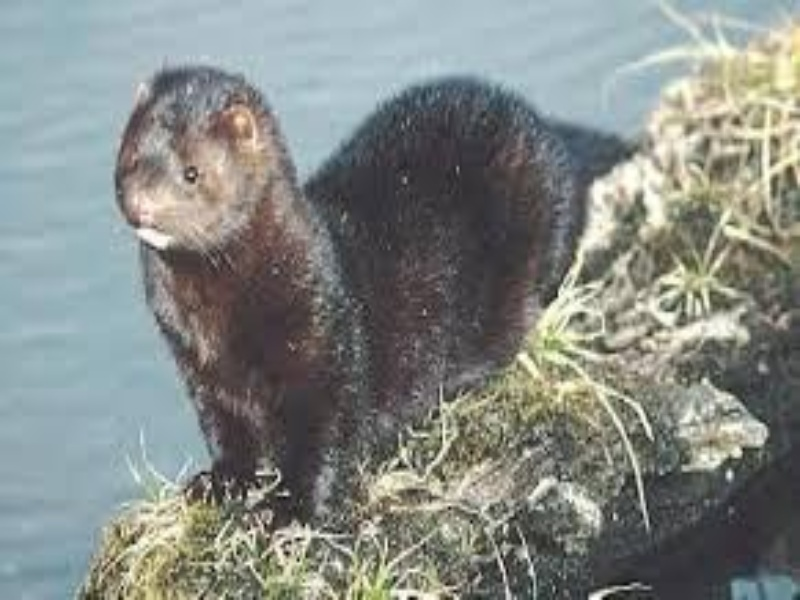minkish: (116, 53, 636, 539)
